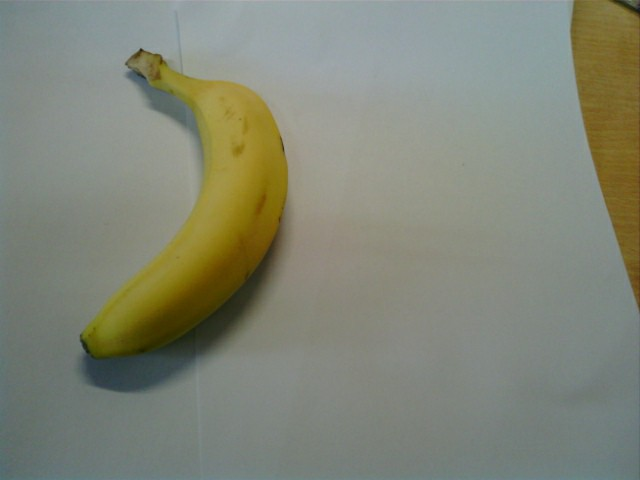fresh_banana: (74, 68, 289, 358)
